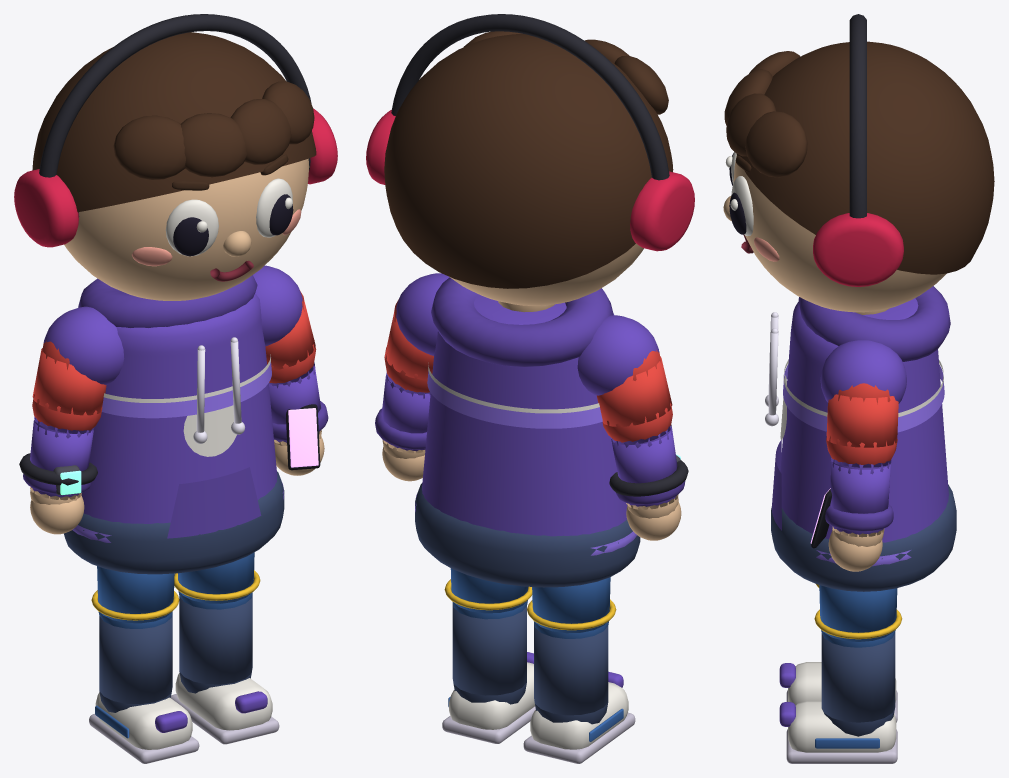
The model's file is ch_hero_m.fbx.
3 views of the same model, side by side, from view 1: azimuth 30°, elevation 25°; view 2: azimuth 150°, elevation 25°; view 3: azimuth 270°, elevation 25° (orthographic).
Parts seen in each view (by area): view 1: ch_hero_m__base, ch_hero_m__top_default, ch_hero_m__pants_default, ch_hero_m__acc_headphones, ch_hero_m__shoes_default, ch_hero_m__top_tshirt, ch_hero_m__pants_jeans, ch_hero_m__top_hoodie, ch_hero_m__acc_smartphone, ch_hero_m__acc_watch; view 2: ch_hero_m__base, ch_hero_m__top_default, ch_hero_m__pants_default, ch_hero_m__acc_headphones, ch_hero_m__top_tshirt, ch_hero_m__shoes_default, ch_hero_m__pants_jeans, ch_hero_m__top_hoodie, ch_hero_m__acc_watch; view 3: ch_hero_m__base, ch_hero_m__top_default, ch_hero_m__pants_default, ch_hero_m__acc_headphones, ch_hero_m__shoes_default, ch_hero_m__top_tshirt, ch_hero_m__pants_jeans, ch_hero_m__top_hoodie, ch_hero_m__shoes_sneakers, ch_hero_m__acc_smartphone.
Boxes of the visible parts, bbox=[...] form: ch_hero_m__base: bbox=[30, 32, 324, 534]; ch_hero_m__top_default: bbox=[23, 265, 328, 538]; ch_hero_m__pants_default: bbox=[64, 471, 284, 712]; ch_hero_m__acc_headphones: bbox=[14, 14, 337, 247]; ch_hero_m__shoes_default: bbox=[89, 673, 279, 763]; ch_hero_m__top_tshirt: bbox=[30, 291, 321, 504]; ch_hero_m__pants_jeans: bbox=[91, 552, 260, 628]; ch_hero_m__top_hoodie: bbox=[72, 354, 284, 542]; ch_hero_m__acc_smartphone: bbox=[286, 404, 320, 470]; ch_hero_m__acc_watch: bbox=[19, 453, 97, 495]; ch_hero_m__base: bbox=[382, 31, 681, 540]; ch_hero_m__top_default: bbox=[375, 273, 685, 536]; ch_hero_m__pants_default: bbox=[415, 483, 640, 724]; ch_hero_m__acc_headphones: bbox=[366, 14, 694, 251]; ch_hero_m__top_tshirt: bbox=[382, 299, 678, 518]; ch_hero_m__shoes_default: bbox=[442, 652, 635, 763]; ch_hero_m__pants_jeans: bbox=[444, 568, 616, 638]; ch_hero_m__top_hoodie: bbox=[415, 362, 636, 555]; ch_hero_m__acc_watch: bbox=[609, 454, 688, 496]; ch_hero_m__base: bbox=[723, 41, 994, 571]; ch_hero_m__top_default: bbox=[765, 286, 950, 542]; ch_hero_m__pants_default: bbox=[771, 484, 956, 736]; ch_hero_m__acc_headphones: bbox=[813, 14, 903, 286]; ch_hero_m__shoes_default: bbox=[779, 662, 897, 763]; ch_hero_m__top_tshirt: bbox=[780, 375, 898, 546]; ch_hero_m__pants_jeans: bbox=[814, 584, 902, 647]; ch_hero_m__top_hoodie: bbox=[783, 360, 944, 566]; ch_hero_m__shoes_sneakers: bbox=[815, 738, 879, 748]; ch_hero_m__acc_smartphone: bbox=[810, 488, 831, 548].
Bounding box in the file's own units: 0.6345 × 1.43 × 0.4999.
